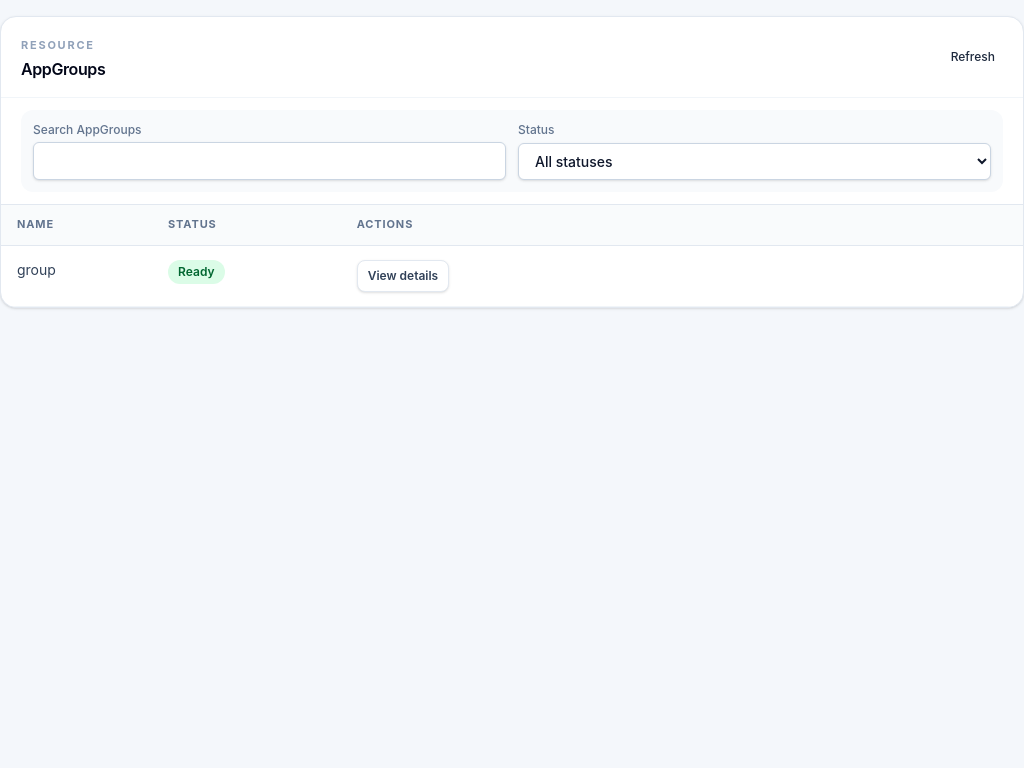
Test case: readable data views › renders nested resource details as readable fields
The width and height of the screenshot is (1024, 768).
Expected: the text "Ready" is shown, [168,260,224,284]
Expected: the text "Runtime" is not shown
Click the button "View details". click: [403, 276]
box: [357,260,449,292]
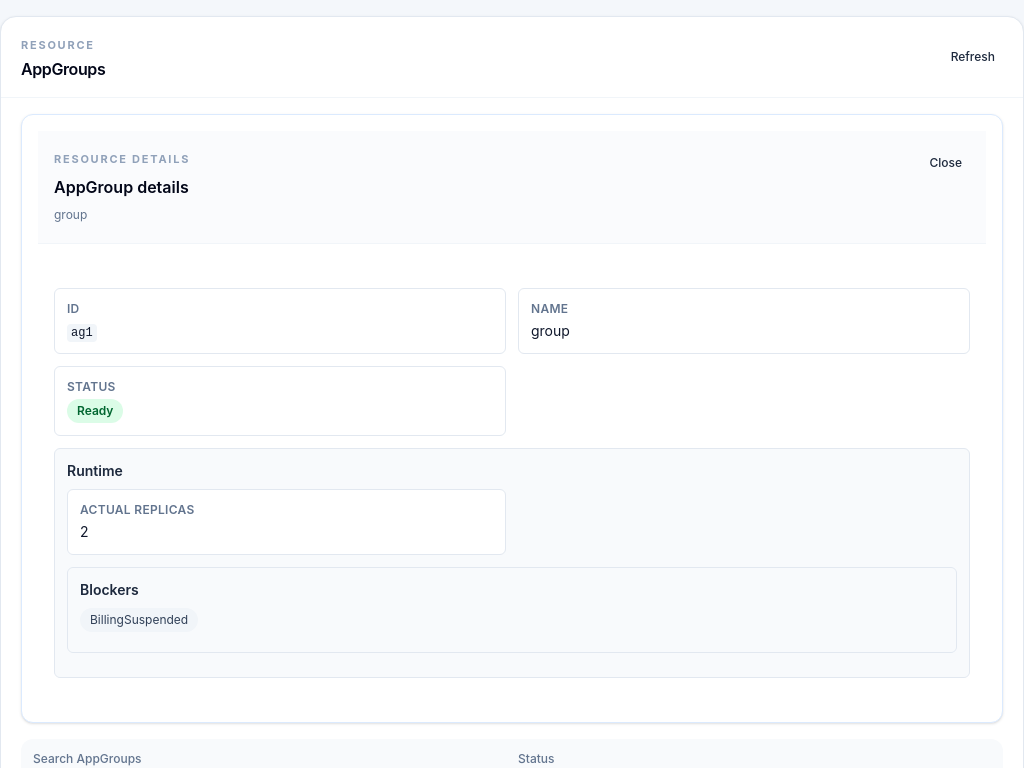
Expected: the heading "Runtime" is shown, [67,462,123,479]
Expected: the text "Actual replicas" is shown, [80,502,195,517]
Expected: the text "BillingSuspended" is shown, [90,612,188,627]
